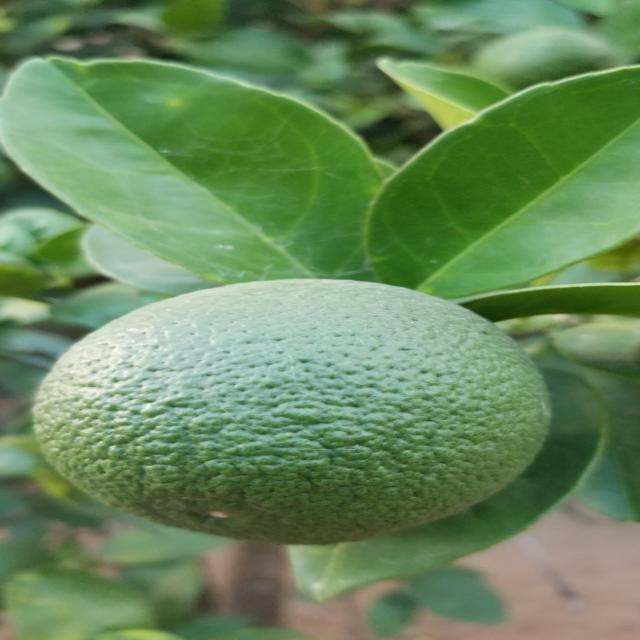Unripe: (32, 270, 598, 568)
